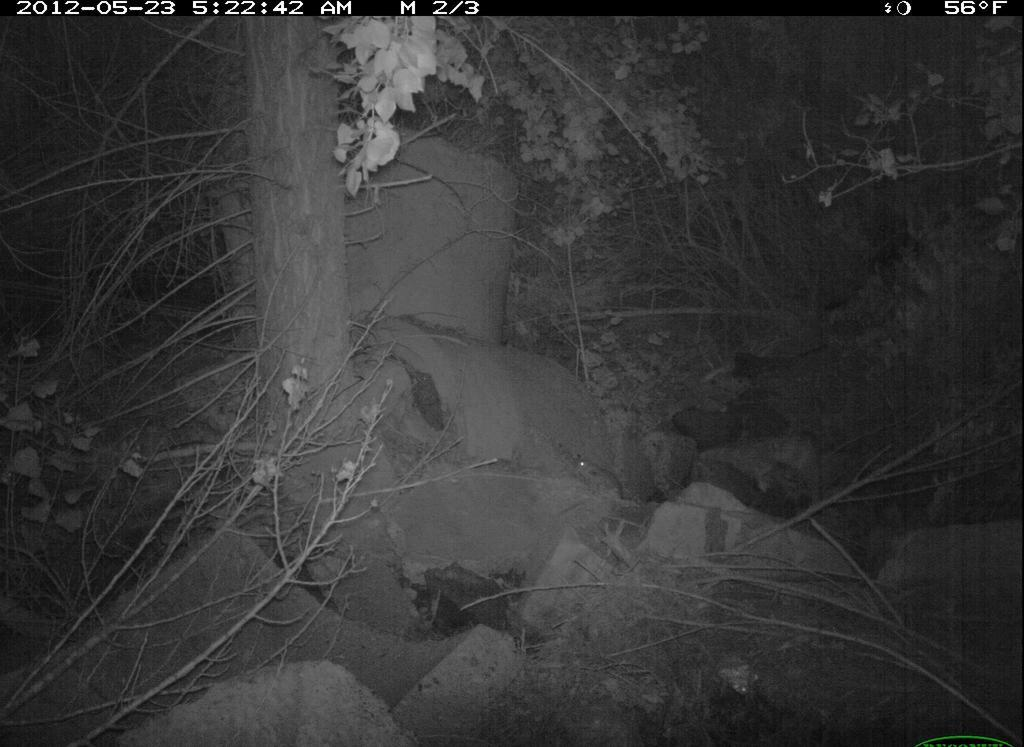bobcat: (747, 421, 838, 515)
rodent: (568, 453, 630, 507)
